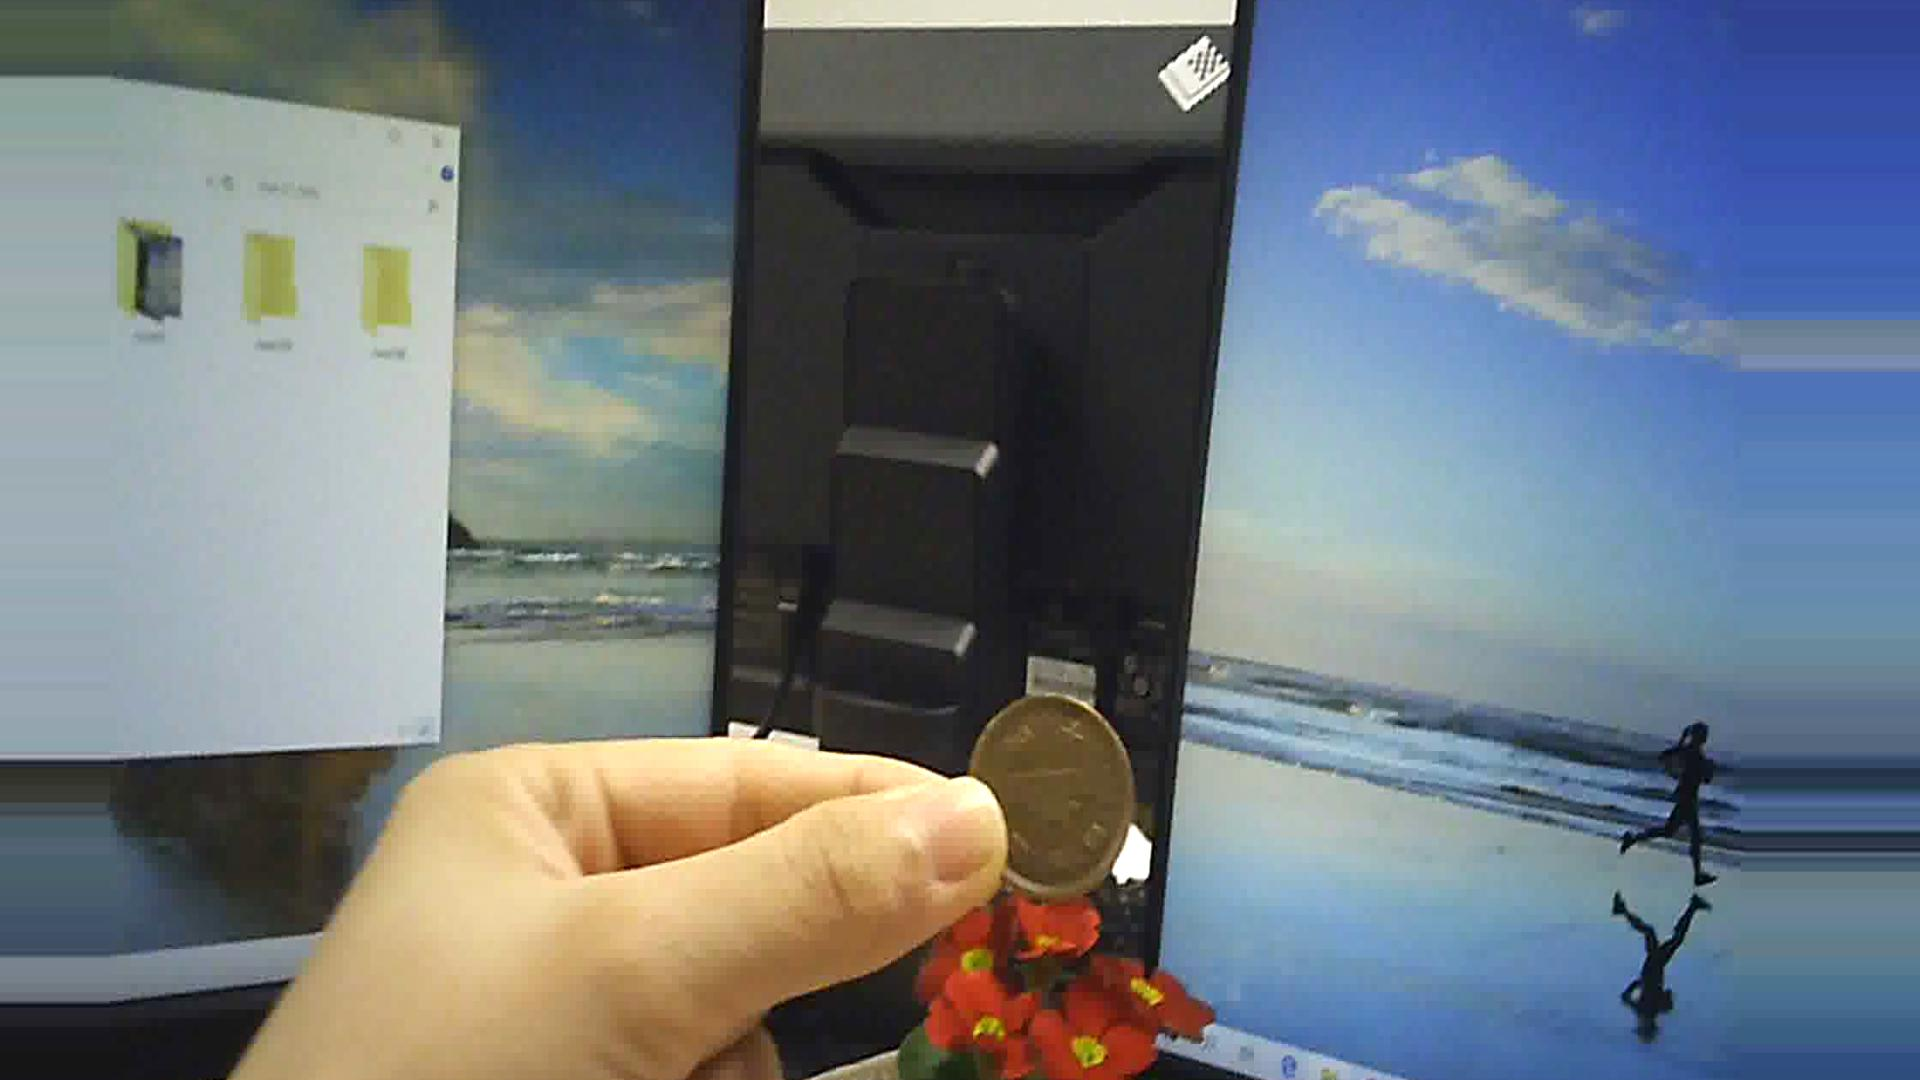10 Yen: (953, 686, 1142, 905)
